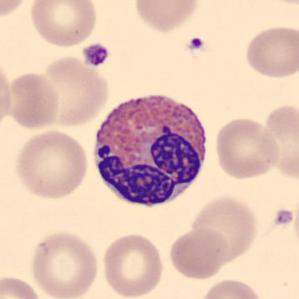Eosinophil: (85, 84, 214, 217)
Platelets: (80, 42, 112, 68), (271, 207, 296, 228), (187, 35, 206, 52)
RBC: (23, 54, 112, 129), (12, 127, 90, 201), (28, 228, 101, 299), (189, 194, 259, 265), (99, 230, 166, 299), (212, 114, 282, 180), (27, 0, 100, 49), (4, 69, 61, 131), (167, 226, 230, 281), (259, 100, 299, 180), (243, 23, 298, 80), (131, 0, 201, 34), (197, 276, 266, 299), (0, 55, 15, 133), (0, 273, 44, 299), (0, 0, 31, 21), (260, 0, 299, 6)
